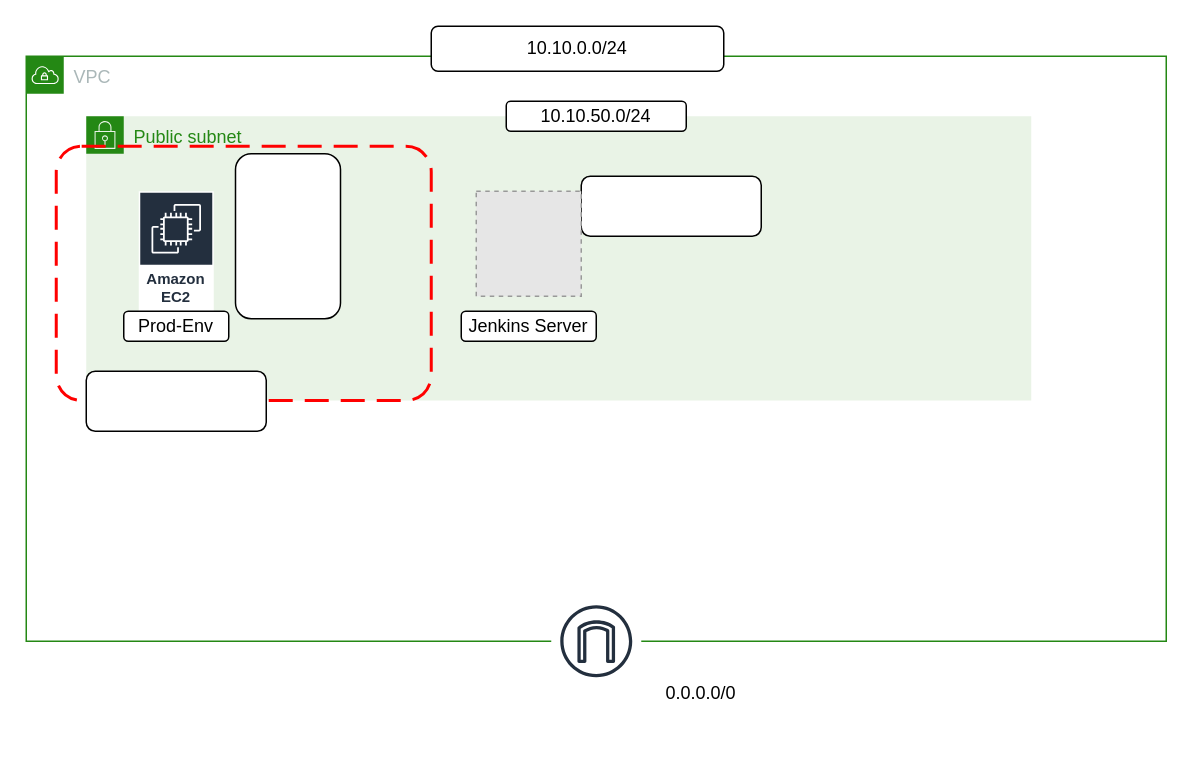
Some shapes in this 1193 by 767 pixel diagram are drawn without their labels. Grey dashed boxes stand in for pictures. The shapes that lost their labels are listed below. From the top down, each one's centre as x and y in pixels, then its label:
At point (670, 205): "default jre & jenkins".
At point (287, 235): "java-1.8.0-openjdk ------------ Appache tomcat 9".
At point (175, 400): "Port 22 for SSH Custom TCP 8080".
At point (595, 640): "Internet gateway".
